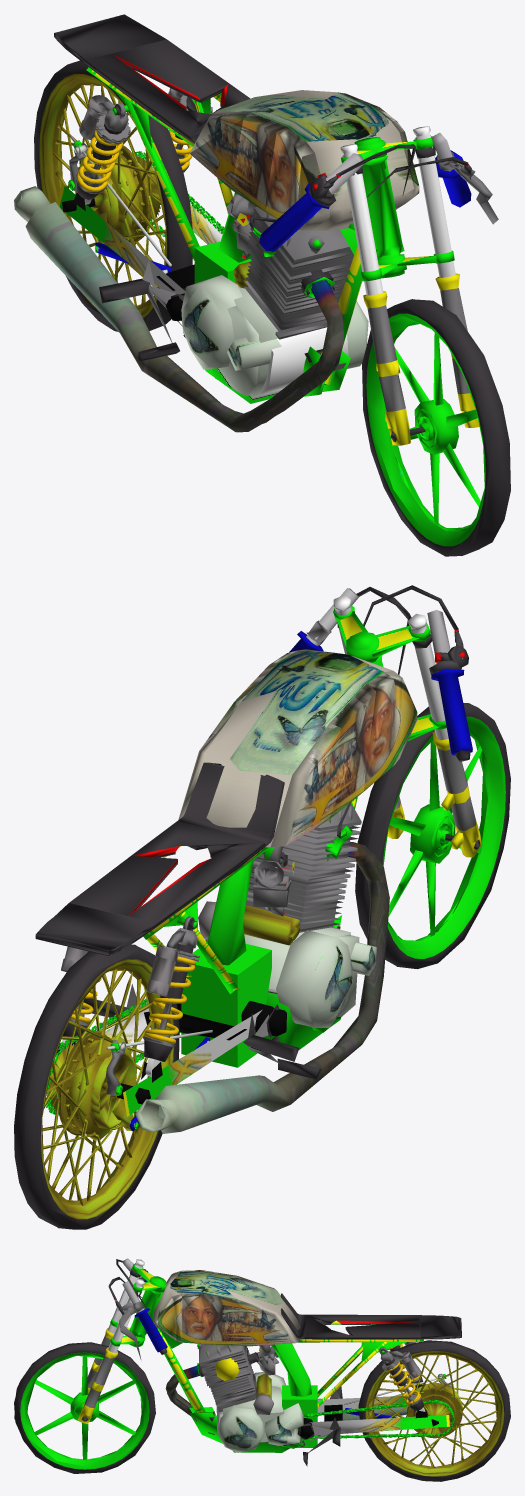
File: GL barbara.fbx
The picture shows the model from 3 angles, top to bottom: view 1: azimuth 30°, elevation 25°; view 2: azimuth 150°, elevation 25°; view 3: azimuth 270°, elevation 25°; orthographic projection. The views are drawn at different scales.
Parts seen in each view (by area): view 1: body, mesin.003, ban depan, ban belakang, rear, steer, handle.003, axle depan, project; view 2: body, mesin.003, ban belakang, ban depan, rear, handle.003, steer, project, axle depan; view 3: body, ban belakang, mesin.003, ban depan, rear, handle.003, steer, axle depan, project.
Part boxes in pixels (left/top/right/bottom): body: left=54, top=14, right=419, bottom=396; mesin.003: left=14, top=186, right=368, bottom=432; ban depan: left=362, top=299, right=510, bottom=556; ban belakang: left=34, top=60, right=192, bottom=331; rear: left=57, top=88, right=224, bottom=321; steer: left=340, top=126, right=455, bottom=374; handle.003: left=256, top=132, right=498, bottom=252; axle depan: left=363, top=273, right=479, bottom=445; project: left=68, top=135, right=171, bottom=272; body: left=35, top=649, right=417, bottom=1079; mesin.003: left=135, top=802, right=389, bottom=1133; ban belakang: left=14, top=944, right=179, bottom=1229; ban depan: left=355, top=703, right=510, bottom=969; rear: left=46, top=916, right=286, bottom=1116; handle.003: left=289, top=585, right=472, bottom=761; steer: left=333, top=595, right=448, bottom=740; project: left=91, top=1030, right=212, bottom=1131; axle depan: left=374, top=731, right=481, bottom=857; body: left=129, top=1270, right=461, bottom=1466; ban belakang: left=358, top=1340, right=510, bottom=1481; mesin.003: left=165, top=1343, right=451, bottom=1452; ban depan: left=14, top=1342, right=155, bottom=1473; rear: left=298, top=1342, right=454, bottom=1439; handle.003: left=108, top=1258, right=167, bottom=1359; steer: left=93, top=1259, right=166, bottom=1384; axle depan: left=78, top=1328, right=117, bottom=1424; project: left=344, top=1373, right=452, bottom=1418.
Size of the model in its own units: 0.7269 by 2.6 by 1.24.
Materials: 22 (20 with a texture image).
